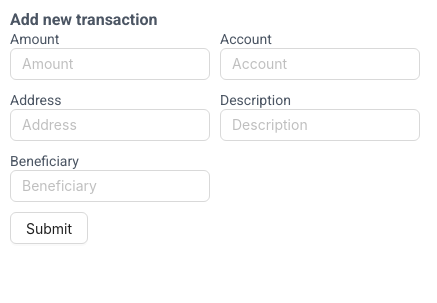
Scenario: Form Component › shows validation errors when required fields are empty
Click the button "Submit".
click(49, 228)  # box [10, 212, 88, 244]
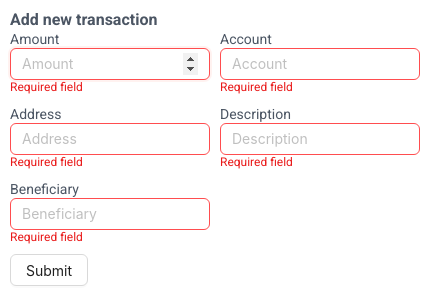
Check: the text "Required field" is shown 5 times, box [10, 80, 83, 94]; [220, 80, 293, 94]; [10, 155, 83, 169]; [220, 155, 293, 169]; [10, 230, 83, 244]
